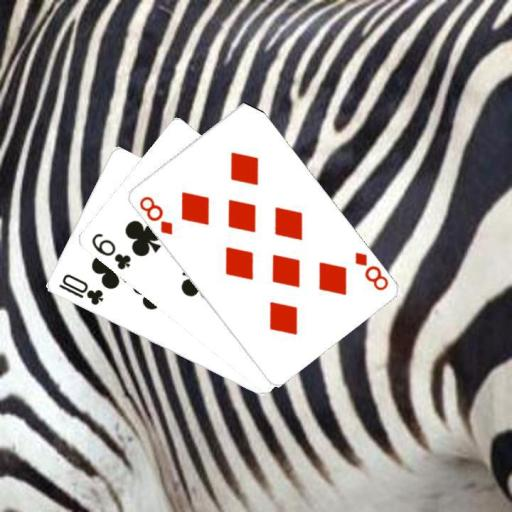10C: (55, 271, 105, 307)
6C: (88, 230, 133, 272)
8D: (135, 193, 174, 237), (351, 249, 390, 292)
